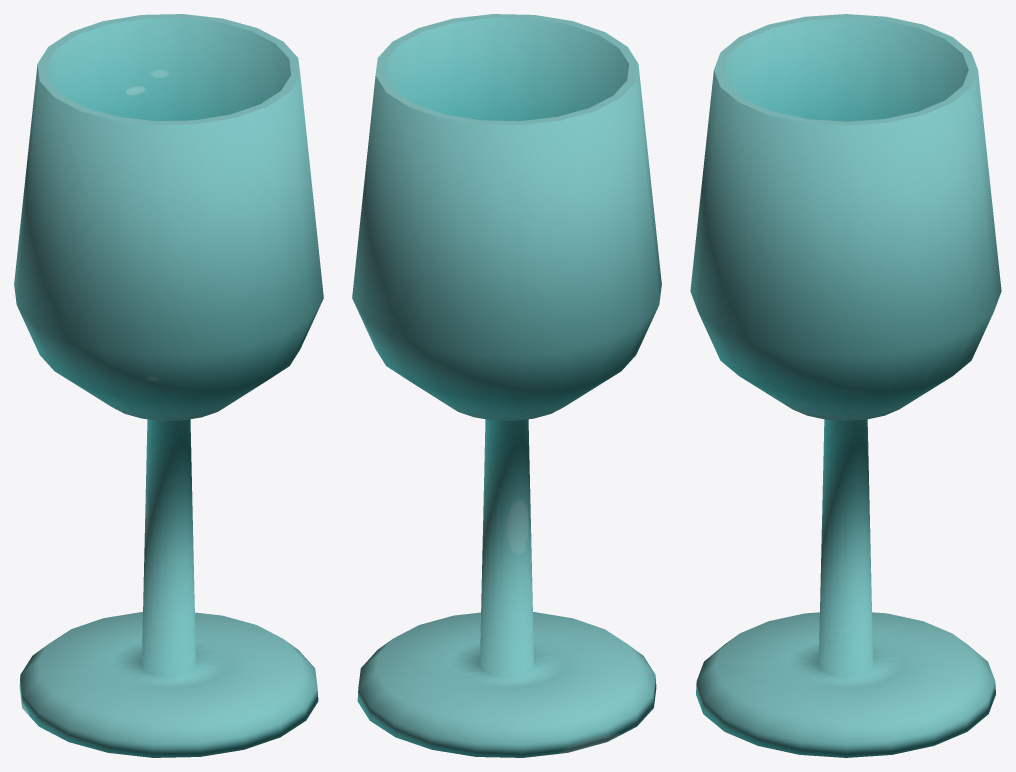
The model's file is Wineglass_3.fbx.
3 views of the same model, side by side, from view 1: azimuth 30°, elevation 25°; view 2: azimuth 150°, elevation 25°; view 3: azimuth 270°, elevation 25° (orthographic).
Parts seen in each view (by area): view 1: Wine glass 1 .001; view 2: Wine glass 1 .001; view 3: Wine glass 1 .001.
Part boxes in pixels (left/top/right/bottom): Wine glass 1 .001: left=14, top=14, right=323, bottom=757; Wine glass 1 .001: left=352, top=14, right=661, bottom=757; Wine glass 1 .001: left=690, top=14, right=1001, bottom=757.
Bounding box in the file's own units: 24.42 × 54.14 × 24.42.
